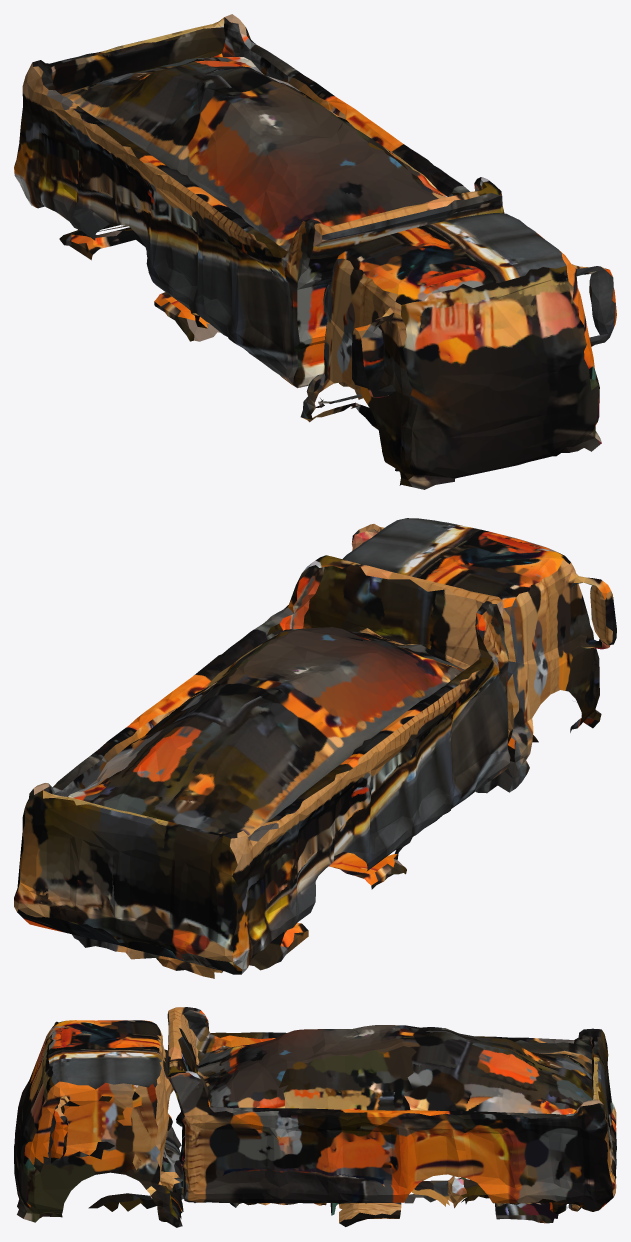
Rendered from cacamba-rodagem.glb.
The picture shows the model from 3 angles, top to bottom: view 1: azimuth 30°, elevation 25°; view 2: azimuth 150°, elevation 25°; view 3: azimuth 270°, elevation 25°; orthographic projection. The views are drawn at different scales.
Parts seen in each view (by area): view 1: geometry_0; view 2: geometry_0; view 3: geometry_0.
Boxes of the visible parts, x1,y1,x2,y2 form: geometry_0: [14, 14, 616, 489]; geometry_0: [14, 518, 616, 978]; geometry_0: [14, 1007, 616, 1227].
Bounding box in the file's own units: 0.7576 × 0.5669 × 1.98.
Materials: 1 (1 with a texture image).
